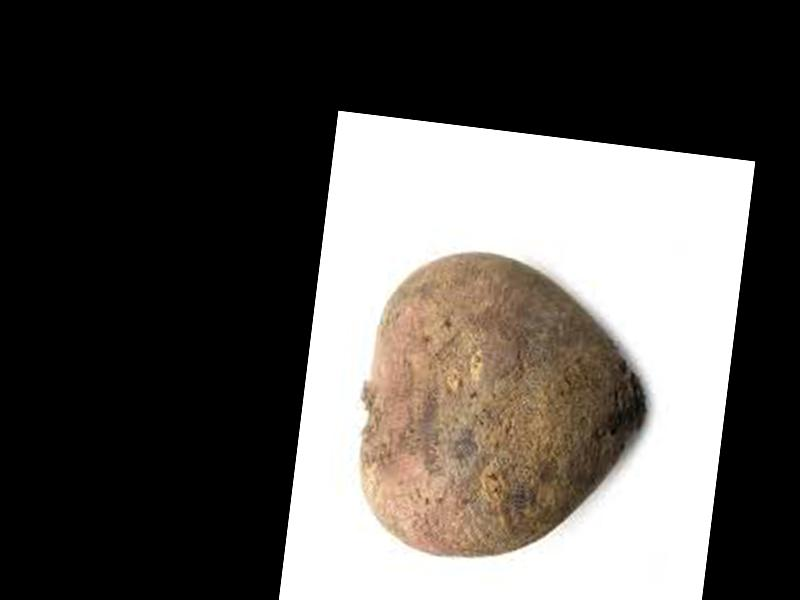Beet: (346, 238, 661, 579)
